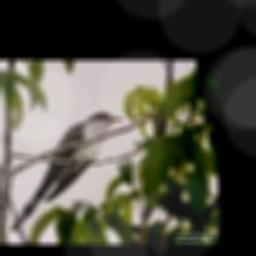Cuckoo: (11, 111, 123, 232)
